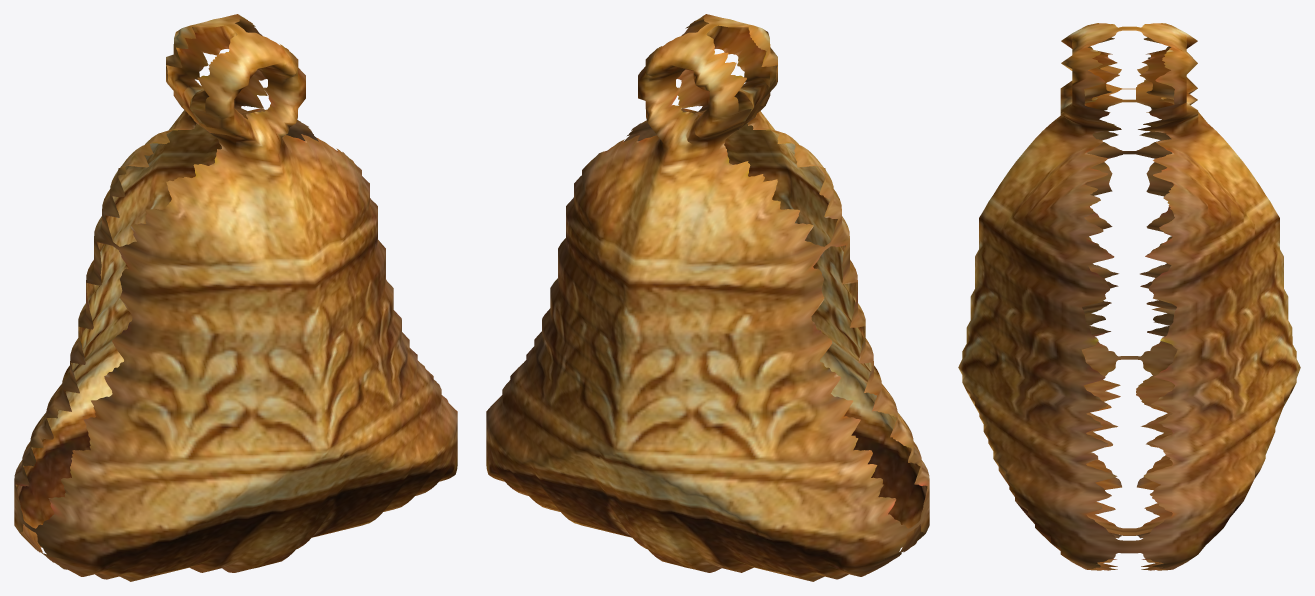
Rendered from Item_bell.glb.
3 views of the same model, side by side, from view 1: azimuth 30°, elevation 25°; view 2: azimuth 150°, elevation 25°; view 3: azimuth 270°, elevation 25° (orthographic). The views are drawn at different scales.
Parts seen in each view (by area): view 1: Item_bell carving; view 2: Item_bell carving; view 3: Item_bell carving.
Part boxes in pixels (bbox=[...]): Item_bell carving: bbox=[14, 14, 457, 581]; Item_bell carving: bbox=[486, 14, 929, 581]; Item_bell carving: bbox=[958, 23, 1300, 570].
Bounding box in the file's own units: 0.2122 × 0.26 × 0.1602.
1 material, 1 textured.
